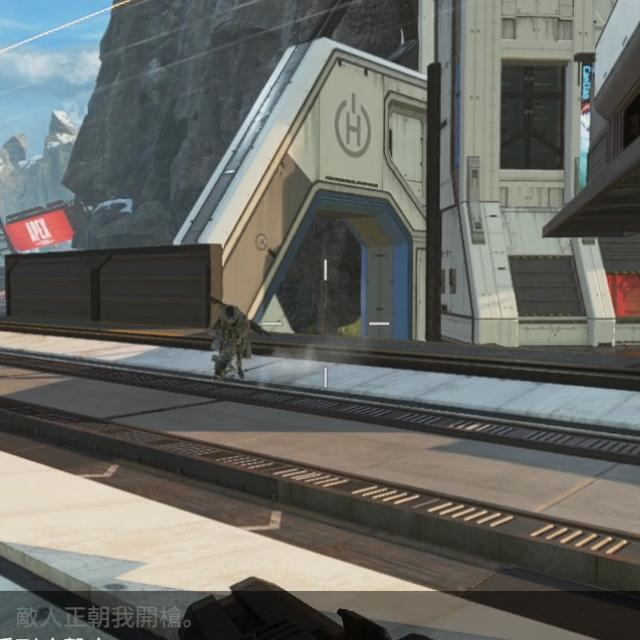avatar: (206, 303, 253, 384)
